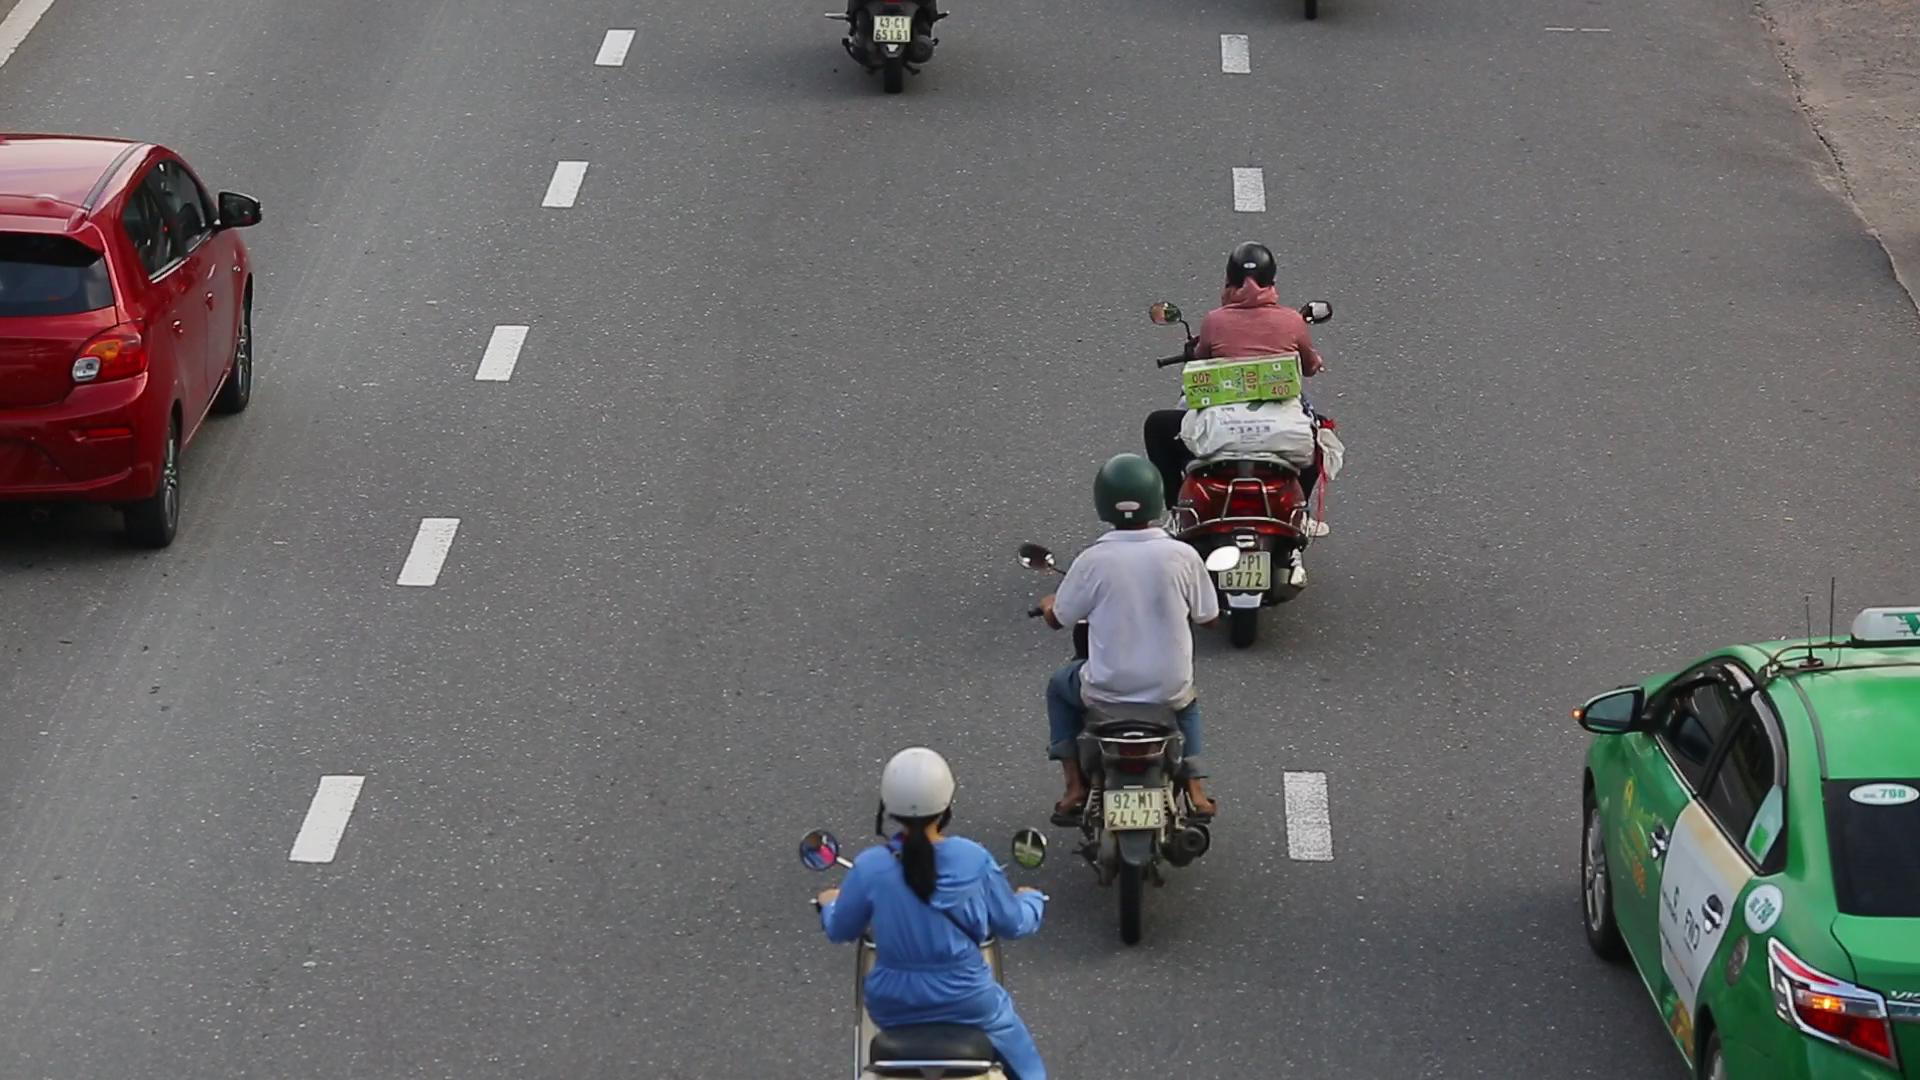motobike: (1009, 454, 1230, 951), (1149, 235, 1349, 651)
